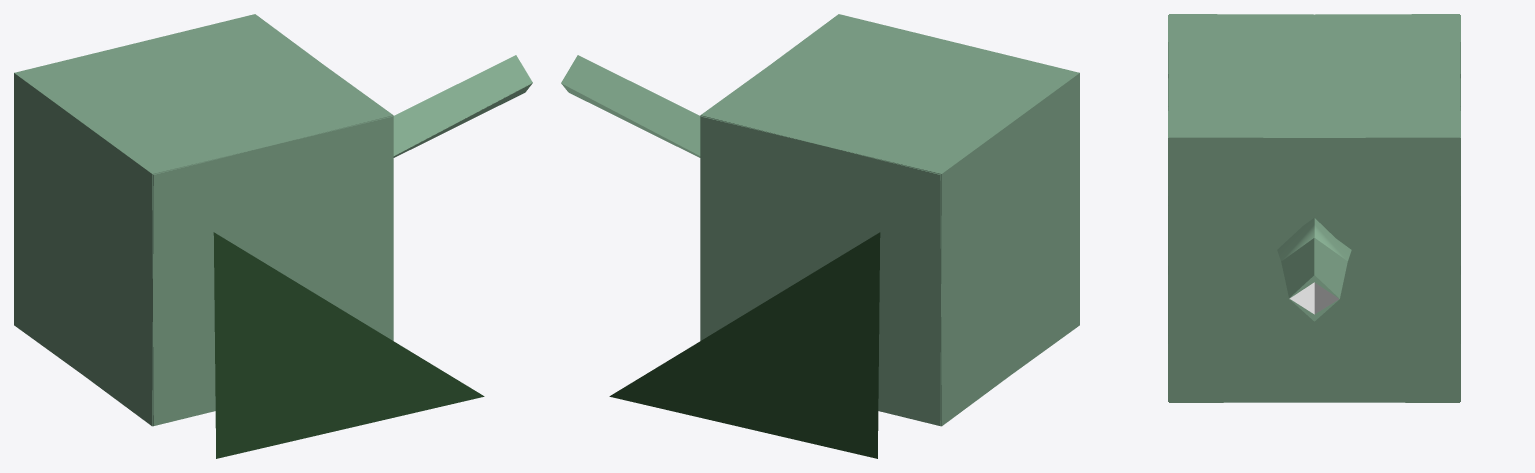
Rendered from tank4.glb.
The picture shows the model from 3 angles, left to right: view 1: azimuth 30°, elevation 25°; view 2: azimuth 150°, elevation 25°; view 3: azimuth 270°, elevation 25°; orthographic projection. The views are drawn at different scales.
Visible parts, largest first — view 1: Cube; view 2: Cube; view 3: Cube.
Boxes of the visible parts, bbox=[...] form: Cube: bbox=[14, 14, 532, 458]; Cube: bbox=[561, 14, 1079, 458]; Cube: bbox=[1168, 14, 1460, 402].
Bounding box in the file's own units: 3.4 × 2.02 × 2.62.
